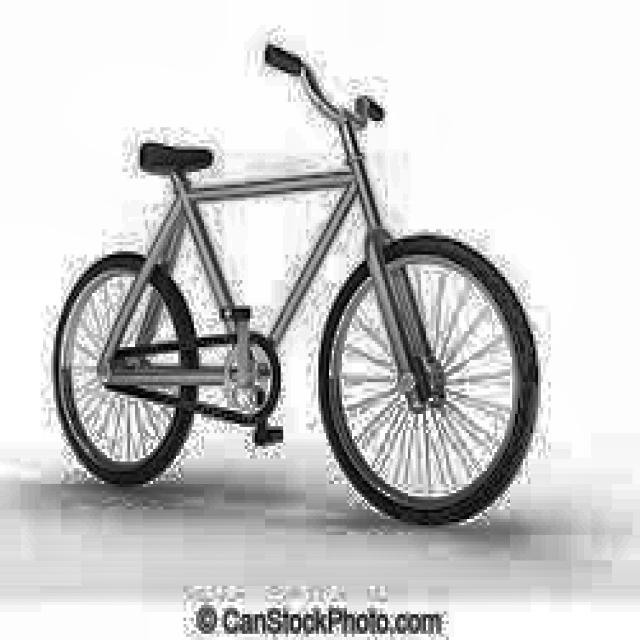bicycle: (41, 32, 550, 533)
